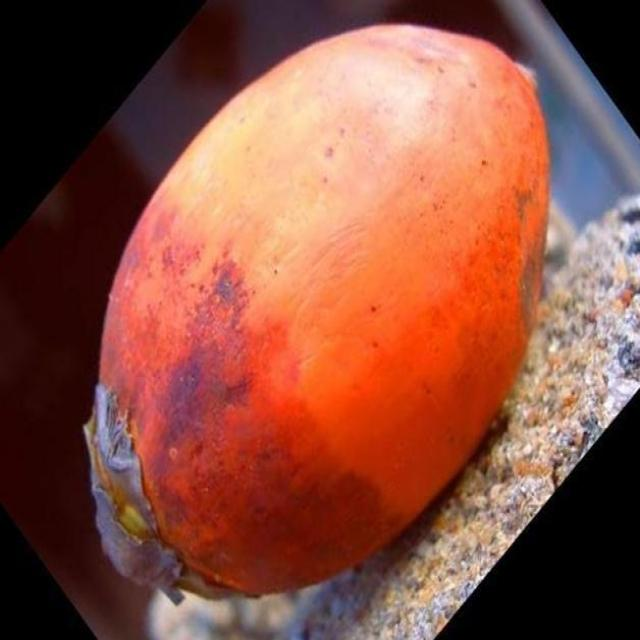good: (84, 24, 551, 603)
